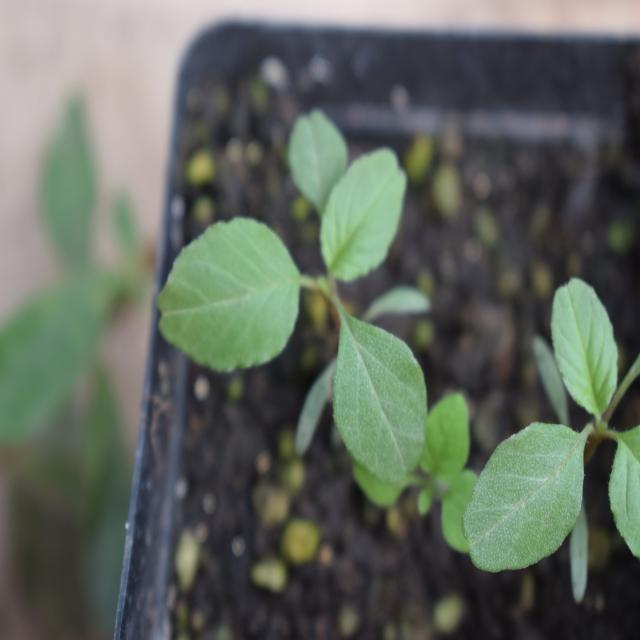pigweed: (157, 117, 421, 471), (457, 300, 635, 581)
